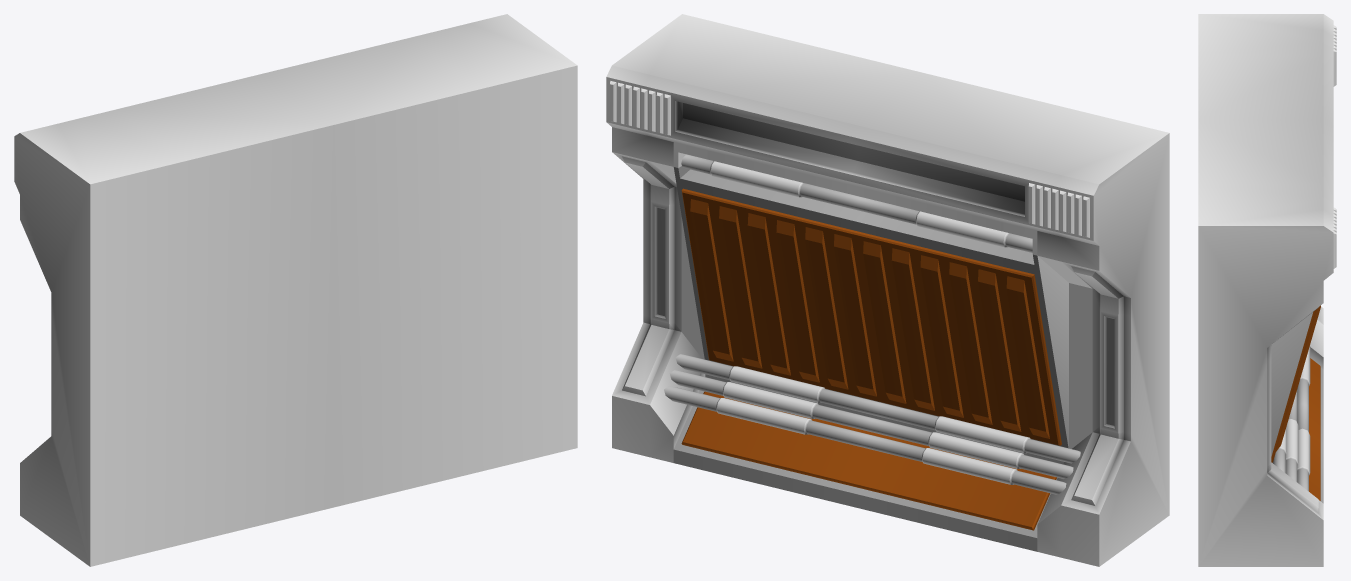
The model's file is wallDouble_C.FBX.
3 renders of one model, left to right at view 1: azimuth 30°, elevation 25°; view 2: azimuth 150°, elevation 25°; view 3: azimuth 270°, elevation 25°, orthographic. The views are drawn at different scales.
Parts seen in each view (by area): view 1: wallDouble_C; view 2: wallDouble_C; view 3: wallDouble_C.
Boxes of the visible parts, <box> form: wallDouble_C: <box>14,14,577,566</box>; wallDouble_C: <box>606,14,1169,566</box>; wallDouble_C: <box>1198,14,1336,566</box>.
Size of the model in its own units: 4 by 3 by 1.1.
